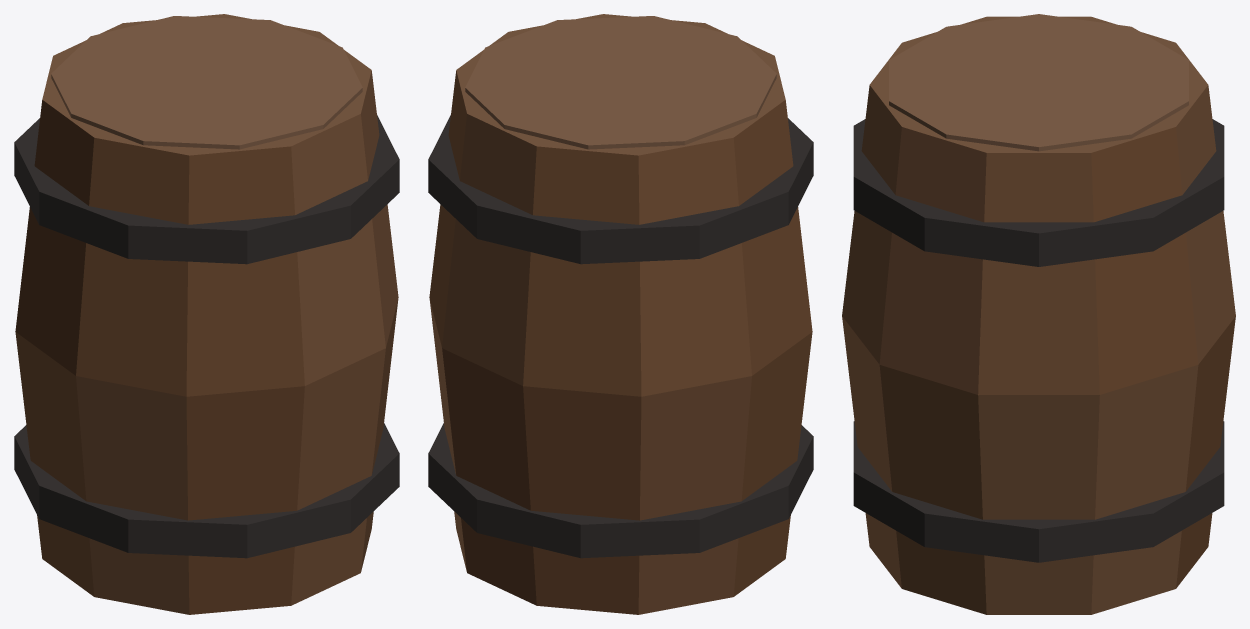
File: Barrel.glb
The picture shows the model from 3 angles, left to right: view 1: azimuth 30°, elevation 25°; view 2: azimuth 150°, elevation 25°; view 3: azimuth 270°, elevation 25°; orthographic projection.
Parts seen in each view (by area): view 1: Body; view 2: Body; view 3: Body.
Boxes of the visible parts, box(x1,y1,x2,y2) form: Body: box(14, 14, 399, 614); Body: box(428, 14, 813, 614); Body: box(842, 14, 1235, 614).
Bounding box in the file's own units: 1.68 × 2.22 × 1.7.
